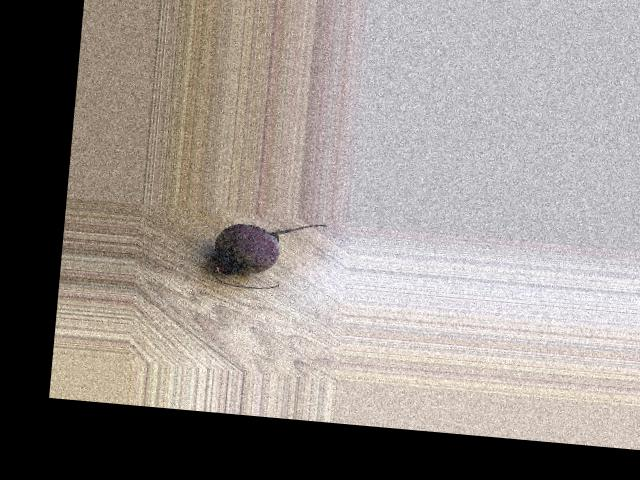beet: (208, 214, 327, 294)
